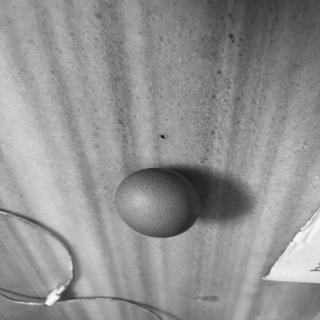Telur: (112, 167, 206, 240)
